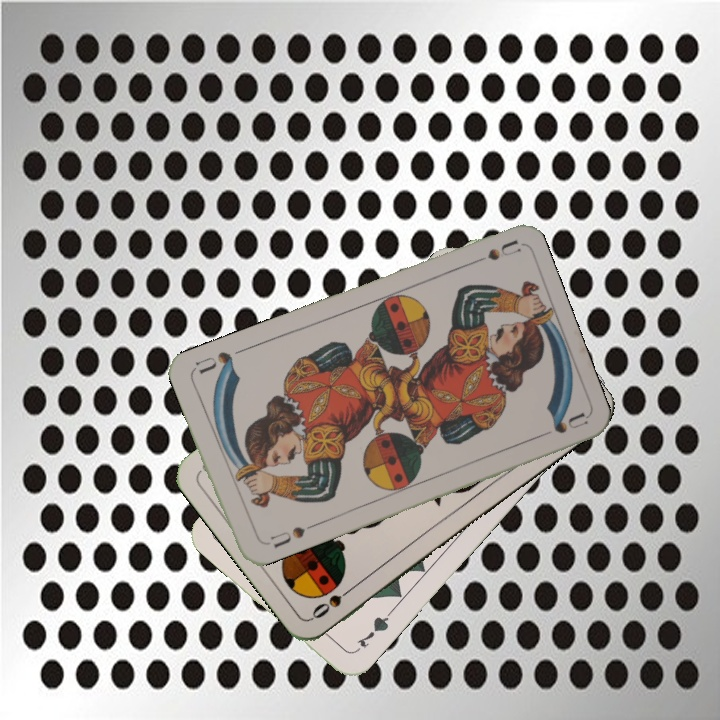G7: (350, 608, 394, 656)
SO: (307, 580, 359, 622)
SU: (463, 236, 521, 269), (258, 522, 308, 551)
